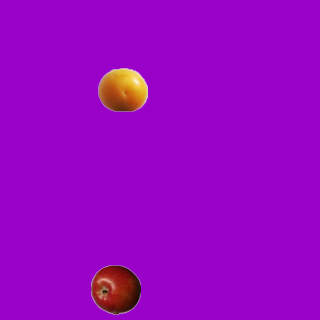Apple Braeburn: (90, 264, 140, 314)
Cherry Wax Yellow: (97, 64, 147, 114)
